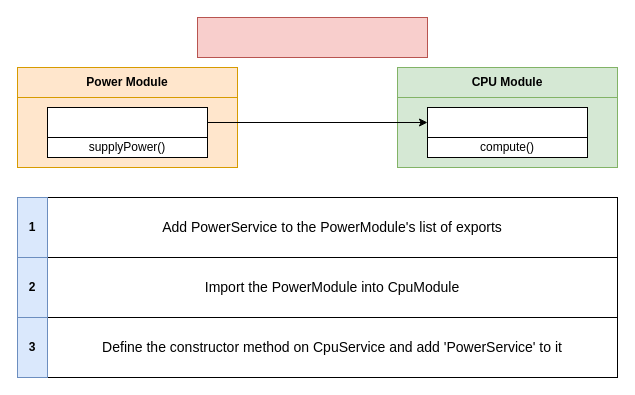
Some shapes in this 635 by 395 pixel diagram are drawn without their labels. Each missing label, with the centre of its shape:
CPU Service: [507,122]
DI Between modules: [312,37]
Power Service: [127,122]
